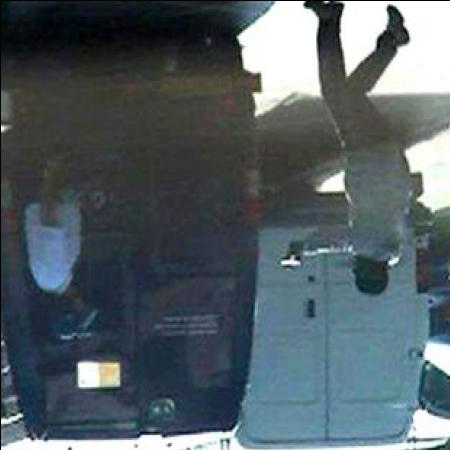Pistol: (276, 236, 306, 270)
